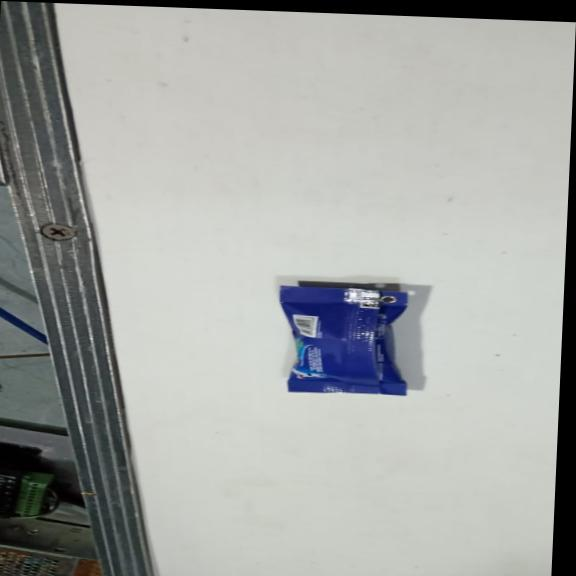Plastik: (269, 284, 414, 397)
